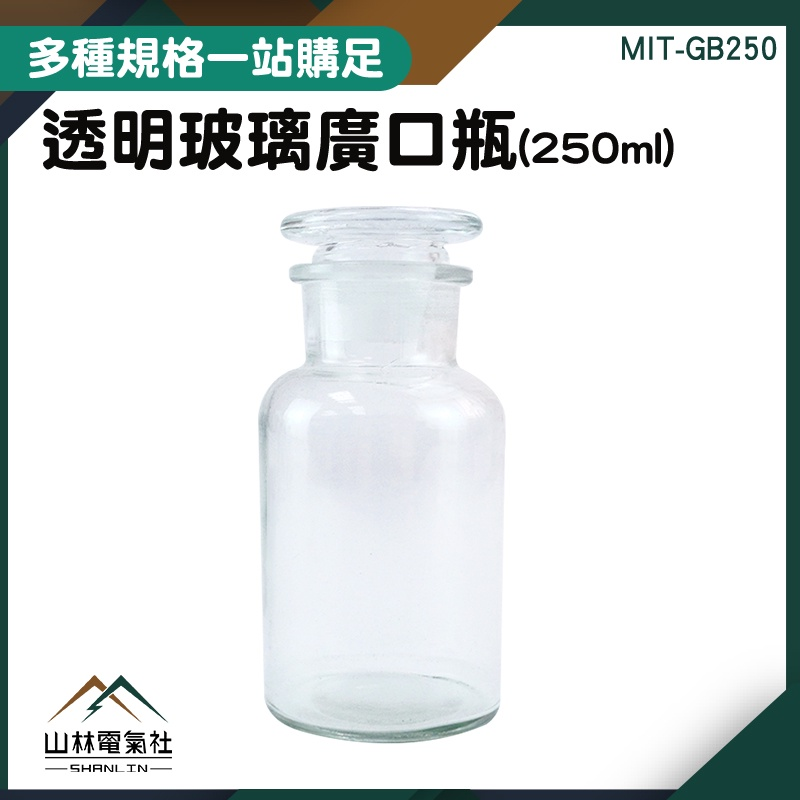medicinejar: (263, 197, 510, 737)
